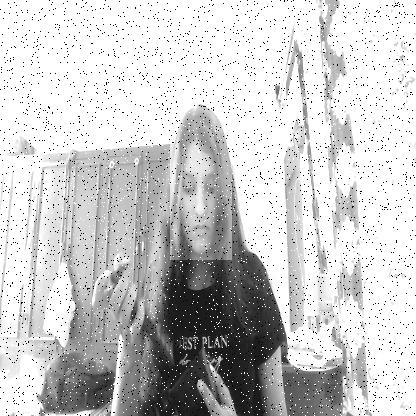Normal: (170, 106, 232, 260)
